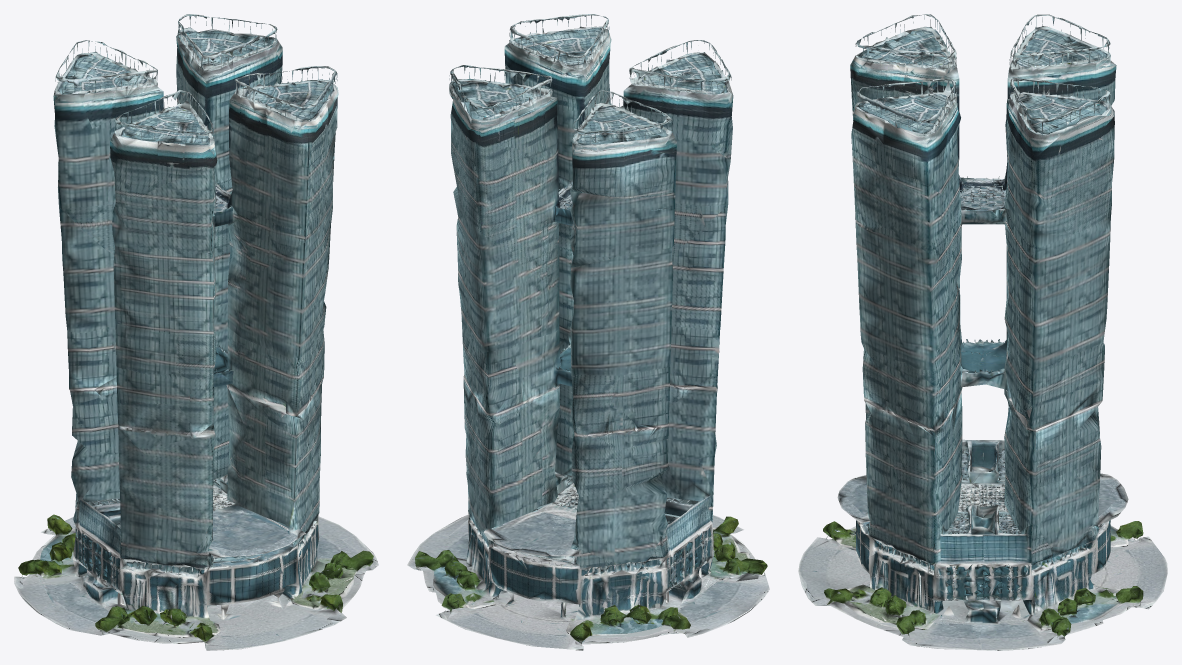
File: tower_k.glb
3 views of the same model, side by side, from view 1: azimuth 30°, elevation 25°; view 2: azimuth 150°, elevation 25°; view 3: azimuth 270°, elevation 25° (orthographic).
Bounding box in the file's own units: 1.25 × 1.9 × 1.25.
1 material, 1 textured.
